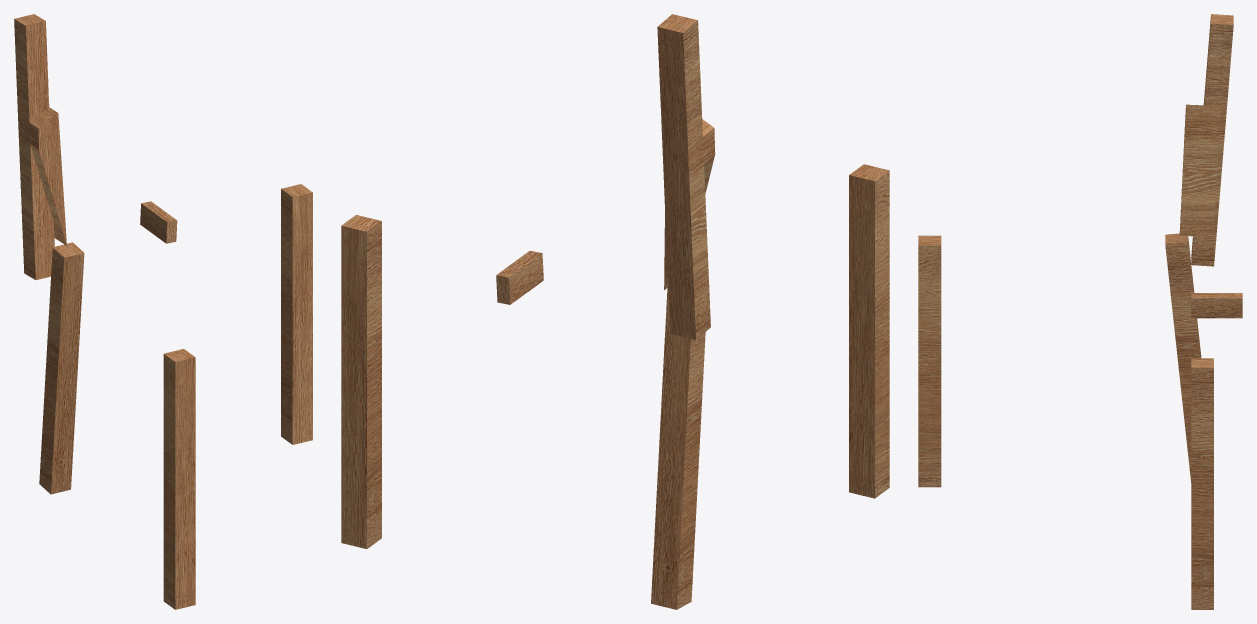
File: 3319_deepcad.glb
The picture shows the model from 3 angles, left to right: view 1: azimuth 30°, elevation 25°; view 2: azimuth 150°, elevation 25°; view 3: azimuth 270°, elevation 25°; orthographic projection. The views are drawn at different scales.
Visible parts, largest first — view 1: test_cmd_3319_pred; view 2: test_cmd_3319_pred; view 3: test_cmd_3319_pred.
Boxes of the visible parts, x1=… form: test_cmd_3319_pred: x1=14, y1=14, x2=312, y2=609; test_cmd_3319_pred: x1=341, y1=14, x2=889, y2=609; test_cmd_3319_pred: x1=918, y1=14, x2=1242, y2=609.
Size of the model in its own units: 0.611 by 1 by 0.6332.
1 material, 1 textured.
